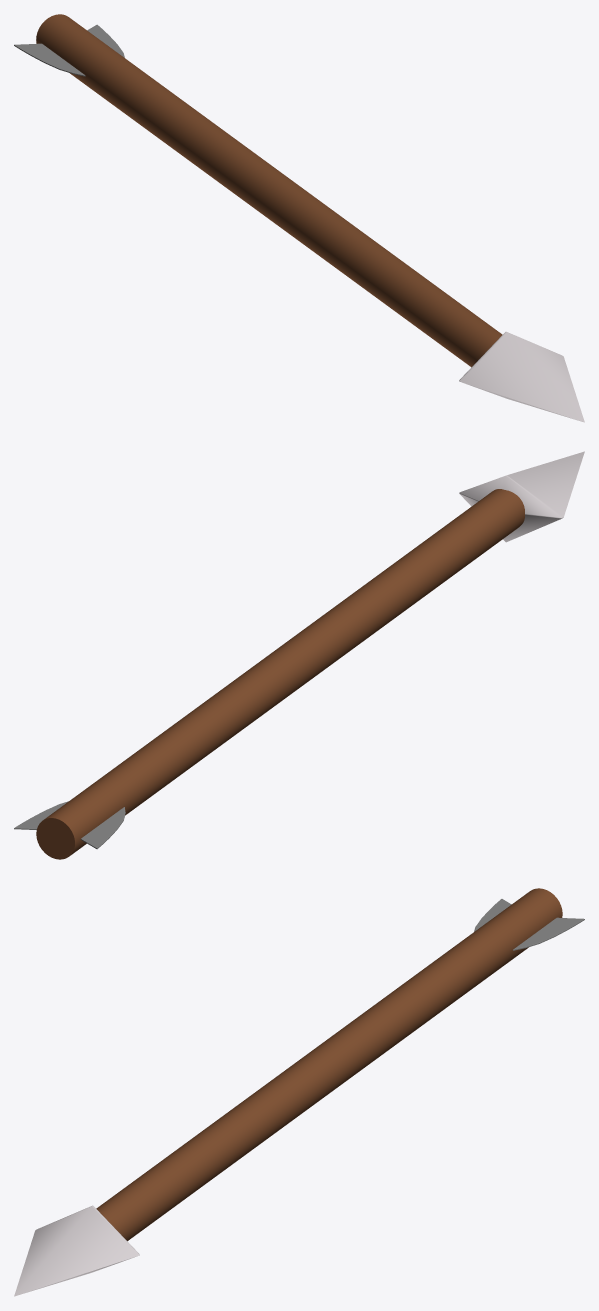
Rendered from Arrow.fbx.
The picture shows the model from 3 angles, top to bottom: view 1: azimuth 30°, elevation 25°; view 2: azimuth 150°, elevation 25°; view 3: azimuth 330°, elevation 25°; orthographic projection.
Parts seen in each view (by area): view 1: Arrow.001; view 2: Arrow.001; view 3: Arrow.001.
Boxes of the visible parts, left/top/right/bottom form: Arrow.001: left=14, top=14, right=584, bottom=422; Arrow.001: left=14, top=451, right=584, bottom=859; Arrow.001: left=14, top=888, right=584, bottom=1296.
Size of the model in its own units: 0.2399 by 0.148 by 2.13.
